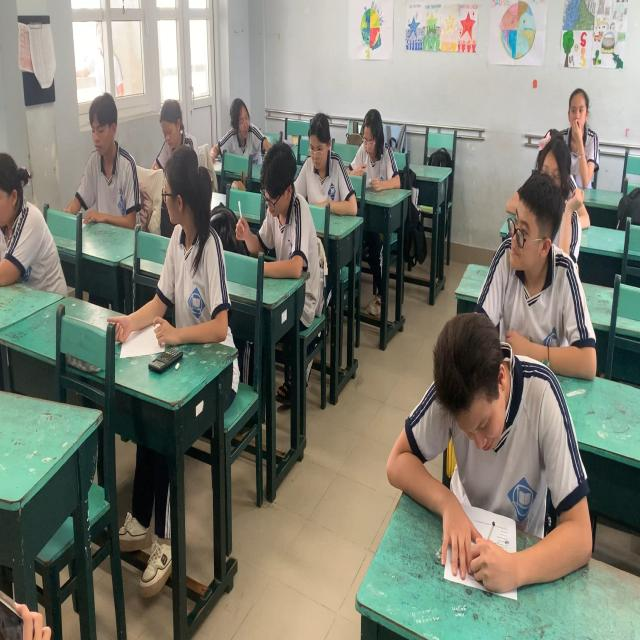cheating: (164, 159, 224, 350), (218, 68, 264, 151)
not_cheating: (424, 293, 528, 473), (292, 99, 361, 245), (501, 155, 568, 295), (78, 83, 140, 232), (348, 62, 407, 197), (259, 140, 299, 284), (158, 85, 196, 176), (562, 78, 602, 149)
